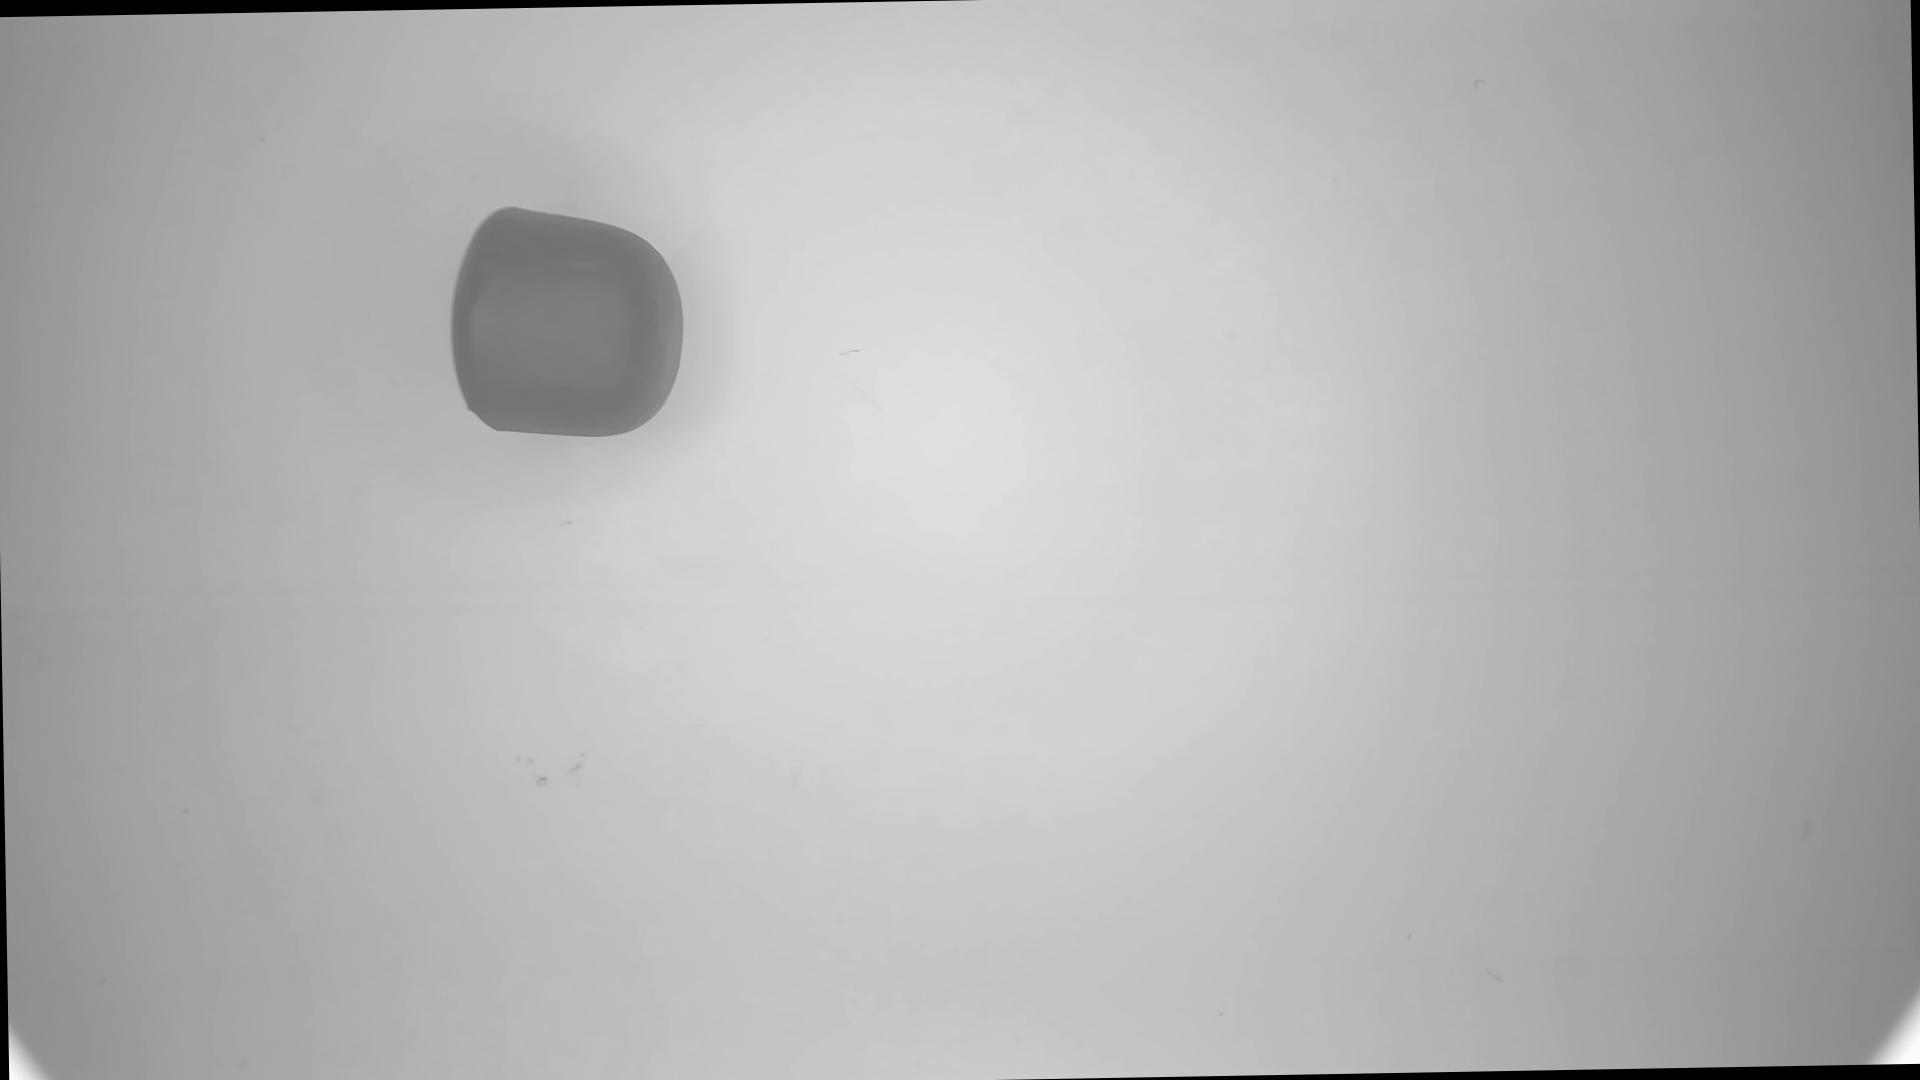normal: (448, 203, 688, 440)
